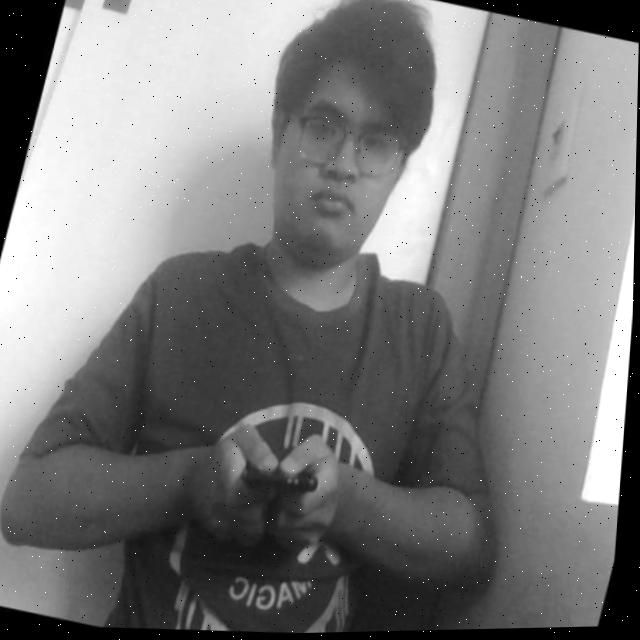phone: (220, 425, 334, 537)
